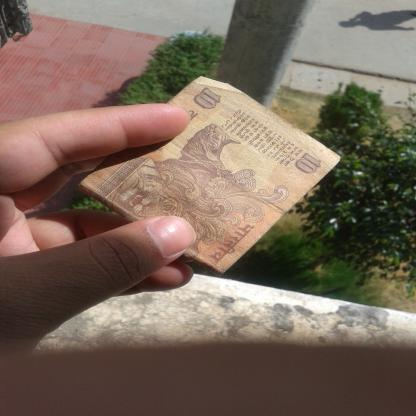Old10Back: (75, 75, 342, 277)
